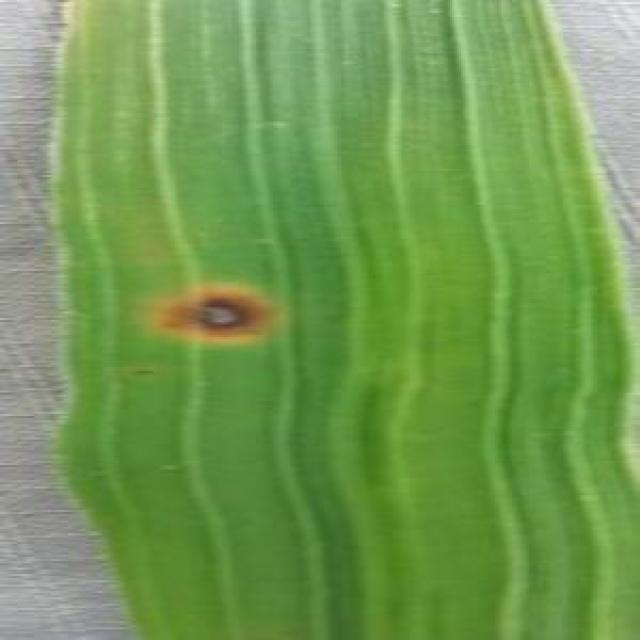brownspots: (156, 282, 274, 342)
